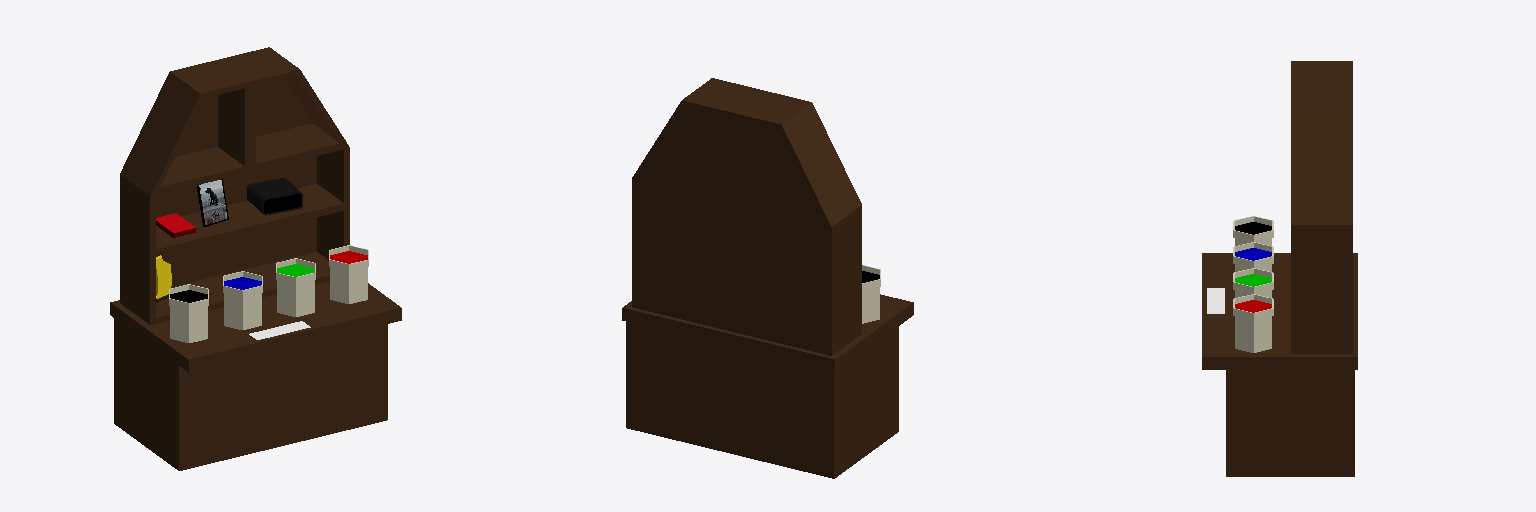
The picture shows the model from 3 angles: view 1: azimuth 30°, elevation 25°; view 2: azimuth 150°, elevation 25°; view 3: azimuth 270°, elevation 25°; orthographic projection.
Parts seen in each view (by area): view 1: Mesh6 Model, Mesh1 Model, Mesh3 Model, Mesh2 Model, Mesh5 Model, Mesh4 Model, Mesh7 Model; view 2: Mesh6 Model, Mesh1 Model, Mesh2 Model; view 3: Mesh1 Model, Mesh6 Model, Mesh5 Model, Mesh2 Model, Mesh3 Model, Mesh4 Model.
Part boxes in pixels (left/top/right/bottom): Mesh6 Model: left=120, top=47, right=349, bottom=324; Mesh1 Model: left=110, top=282, right=401, bottom=470; Mesh3 Model: left=223, top=271, right=262, bottom=329; Mesh2 Model: left=169, top=284, right=208, bottom=342; Mesh5 Model: left=329, top=245, right=368, bottom=303; Mesh4 Model: left=276, top=258, right=315, bottom=316; Mesh7 Model: left=197, top=179, right=228, bottom=226; Mesh6 Model: left=632, top=78, right=861, bottom=355; Mesh1 Model: left=622, top=294, right=913, bottom=478; Mesh2 Model: left=862, top=265, right=880, bottom=323; Mesh1 Model: left=1202, top=253, right=1357, bottom=476; Mesh6 Model: left=1291, top=61, right=1352, bottom=353; Mesh5 Model: left=1233, top=294, right=1273, bottom=352; Mesh2 Model: left=1233, top=216, right=1273, bottom=245; Mesh3 Model: left=1233, top=242, right=1273, bottom=271; Mesh4 Model: left=1233, top=268, right=1273, bottom=297.
Size of the model in its own units: 51.94 by 79.21 by 33.
Materials: 14 (1 with a texture image).